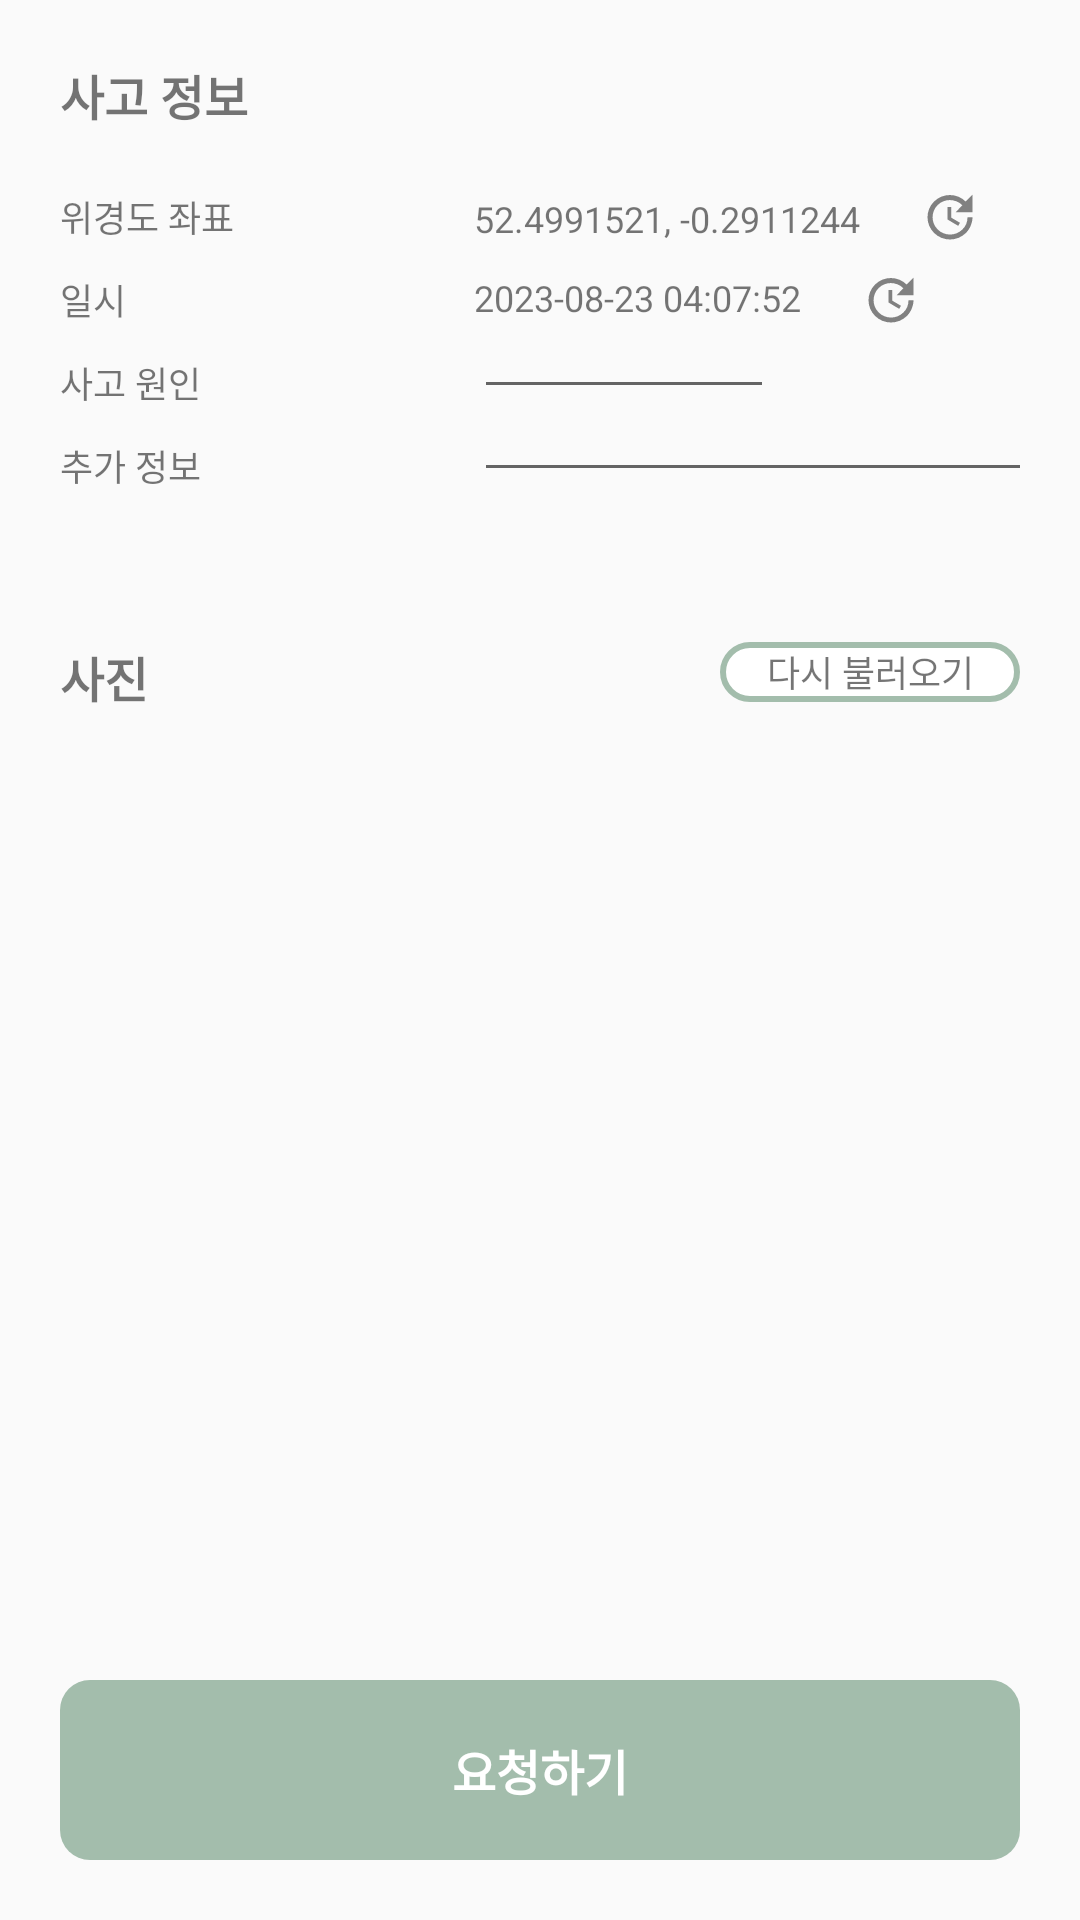

Locate icon controls on the screen. Image size 1080px×1920px, boxes as {"x1": x1, "y1": y1, "x2": x2, "y2": y2}.
update: {"x1": 927, "y1": 195, "x2": 973, "y2": 240}, {"x1": 868, "y1": 278, "x2": 914, "y2": 323}
